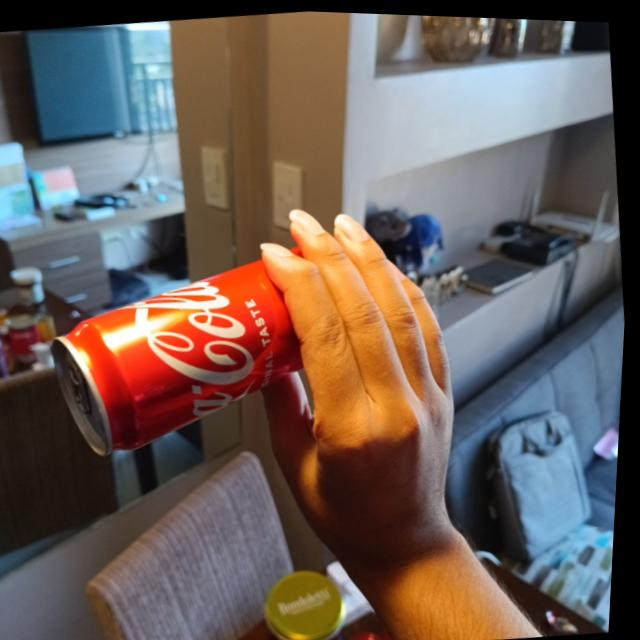coke: (43, 239, 328, 467)
